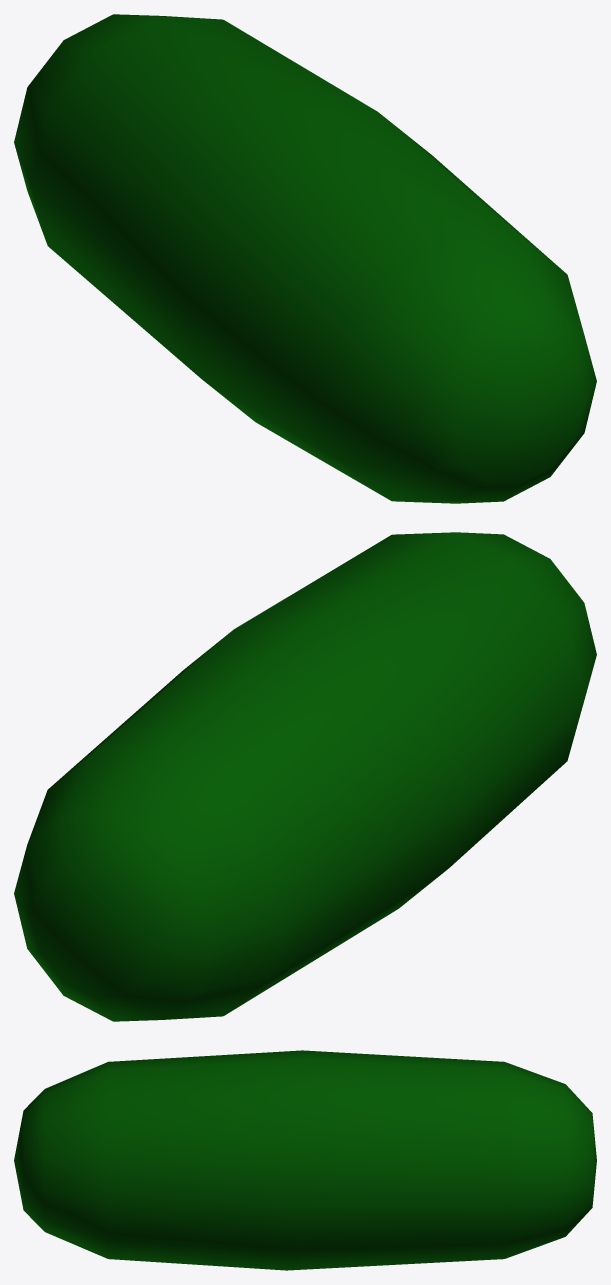
File: meat07.FBX
3 views of the same model, one above another, from view 1: azimuth 30°, elevation 25°; view 2: azimuth 150°, elevation 25°; view 3: azimuth 270°, elevation 25° (orthographic). The views are drawn at different scales.
Parts seen in each view (by area): view 1: SM_meat07_0; view 2: SM_meat07_0; view 3: SM_meat07_0.
Part boxes in pixels (x1,y1,x2,y2): SM_meat07_0: (14, 14, 596, 503); SM_meat07_0: (14, 532, 596, 1021); SM_meat07_0: (14, 1050, 596, 1270).
Bounding box in the file's own units: 14.41 × 38.02 × 14.4.
